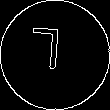L_S: (37, 29, 73, 81)
